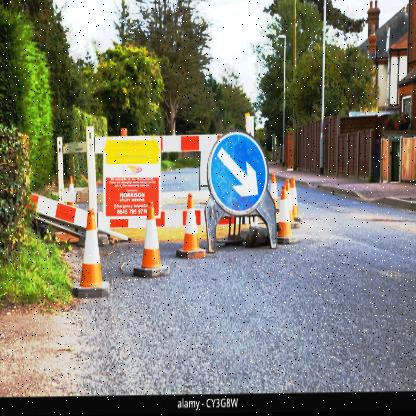Keep right: (207, 128, 270, 220)
